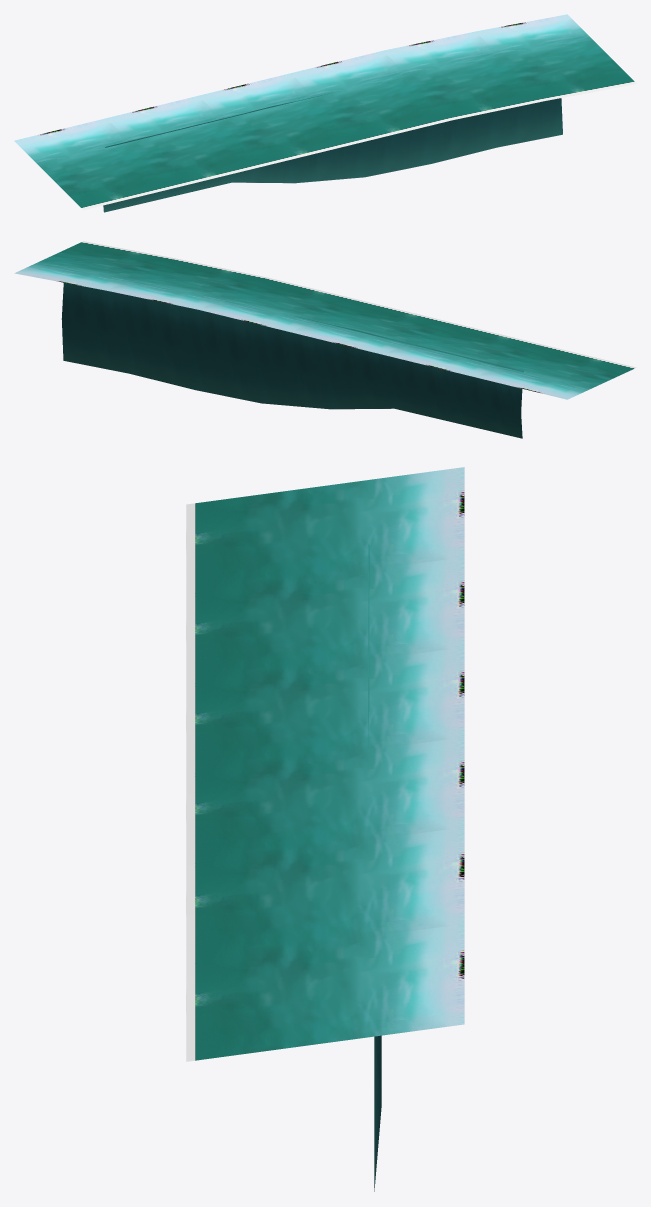
The model's file is Water BG_1.FBX.
The picture shows the model from 3 angles, top to bottom: view 1: azimuth 30°, elevation 25°; view 2: azimuth 150°, elevation 25°; view 3: azimuth 270°, elevation 25°; orthographic projection. The views are drawn at different scales.
Parts seen in each view (by area): view 1: LVL 12 Water Horizon_1, LVL12 Underwater BG_1; view 2: LVL12 Underwater BG_1, LVL 12 Water Horizon_1; view 3: LVL 12 Water Horizon_1, LVL12 Underwater BG_1.
Part boxes in pixels (<box>): LVL 12 Water Horizon_1: <box>14,14,636,210</box>; LVL12 Underwater BG_1: <box>103,92,562,212</box>; LVL12 Underwater BG_1: <box>61,283,523,438</box>; LVL 12 Water Horizon_1: <box>14,241,636,399</box>; LVL 12 Water Horizon_1: <box>186,467,464,1061</box>; LVL12 Underwater BG_1: <box>368,543,381,1191</box>.
Bounding box in the file's own units: 14376 × 3129 × 2631.
